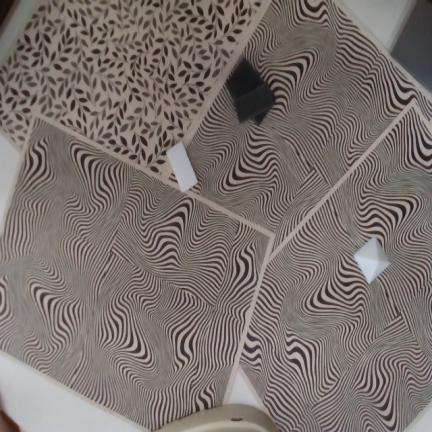Paralelepipedo: (225, 57, 276, 127), (234, 81, 274, 124), (166, 140, 198, 192)
Piramide: (353, 235, 391, 285)
